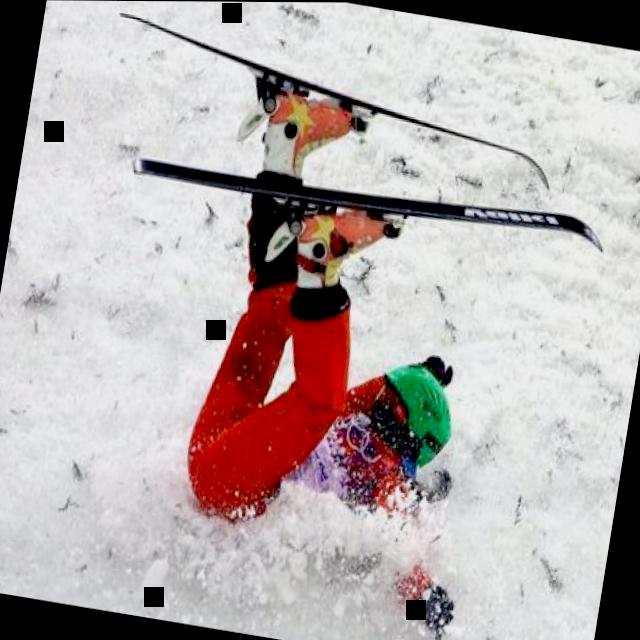Fall-Detected: (143, 28, 547, 626)
